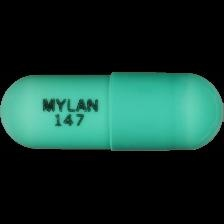54868-0875: (0, 0, 224, 224)
